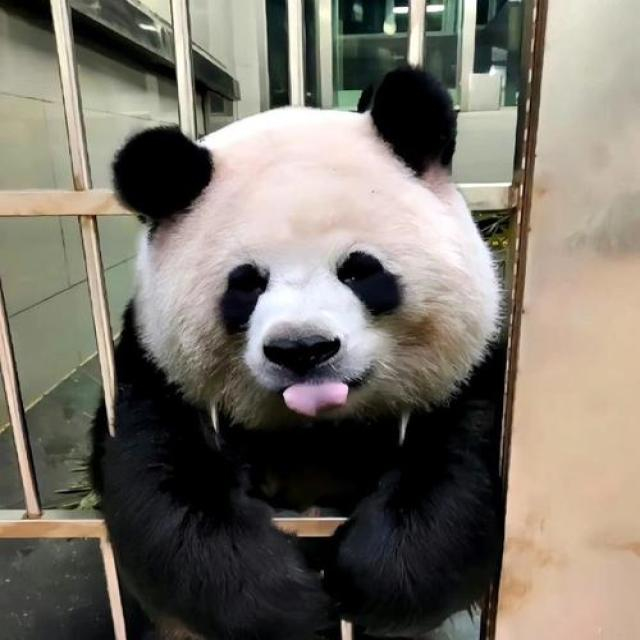panda: (80, 66, 569, 620)
